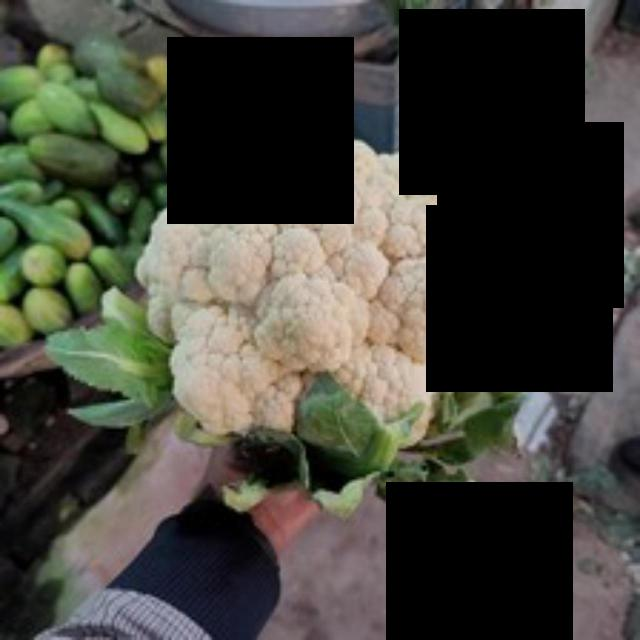cauliflower: (121, 126, 500, 468)
